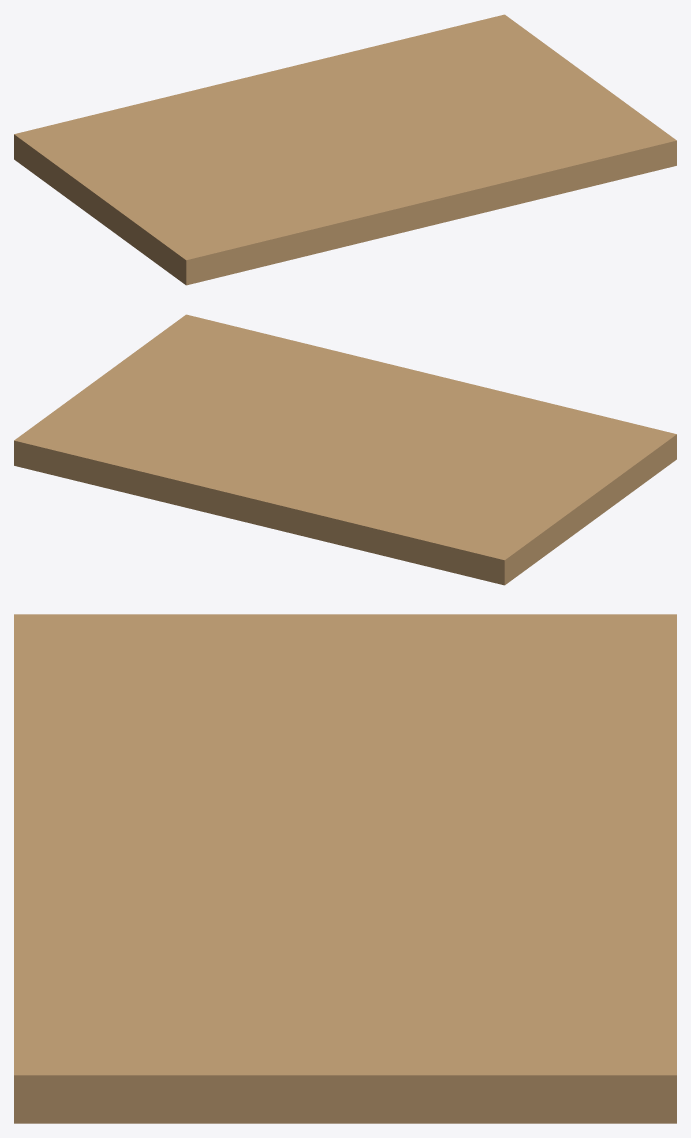
Rendered from applebox-sottile.glb.
3 renders of one model, top to bottom at view 1: azimuth 30°, elevation 25°; view 2: azimuth 150°, elevation 25°; view 3: azimuth 270°, elevation 25°, orthographic. The views are drawn at different scales.
Size of the model in its own units: 0.51 by 0.025 by 0.31.
